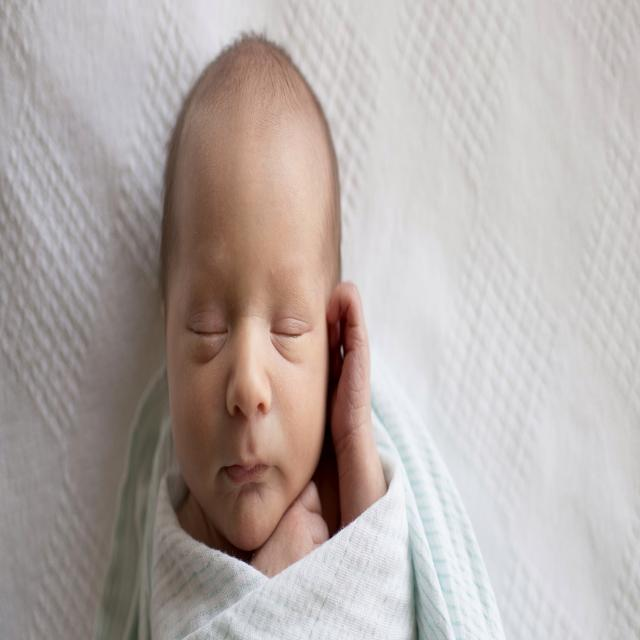child: (159, 36, 424, 640)
